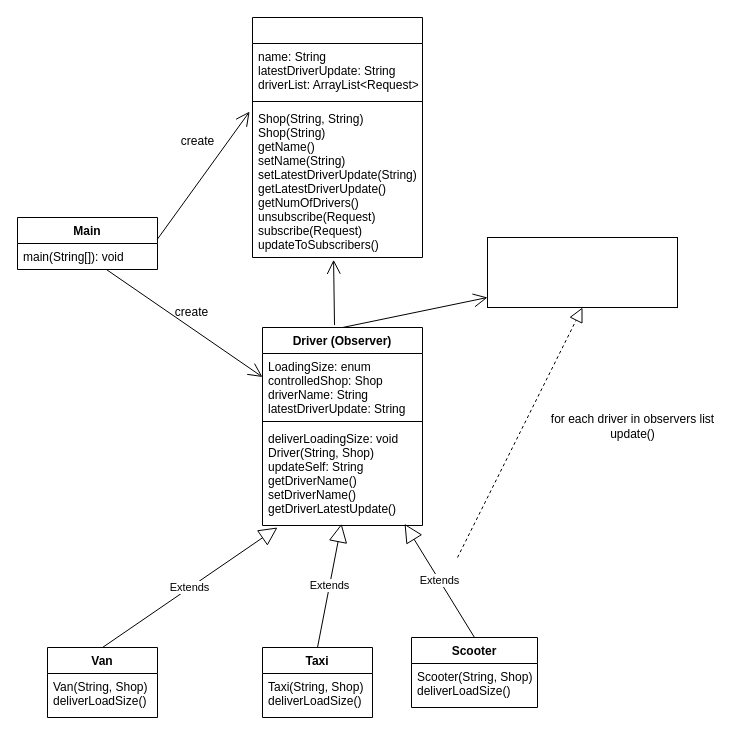
Some shapes in this 745 by 738 pixel diagram are drawn without their labels. The shapes that lost their labels are listed below. From the top down, each one's box as (x1, y1, x2, y2) in pixels, then its label:
(252, 16, 422, 258): Shop (Observable)
(486, 236, 678, 308): <<Interface>> Request updateSelf(String)
